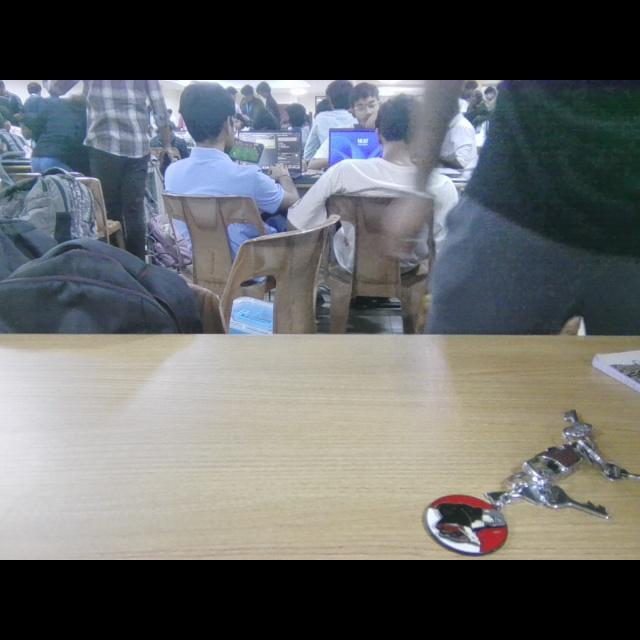keys: (412, 406, 640, 558)
